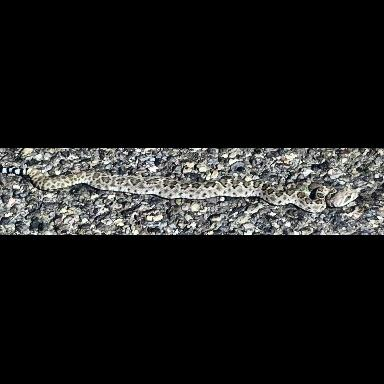snake: (0, 147, 384, 236)
